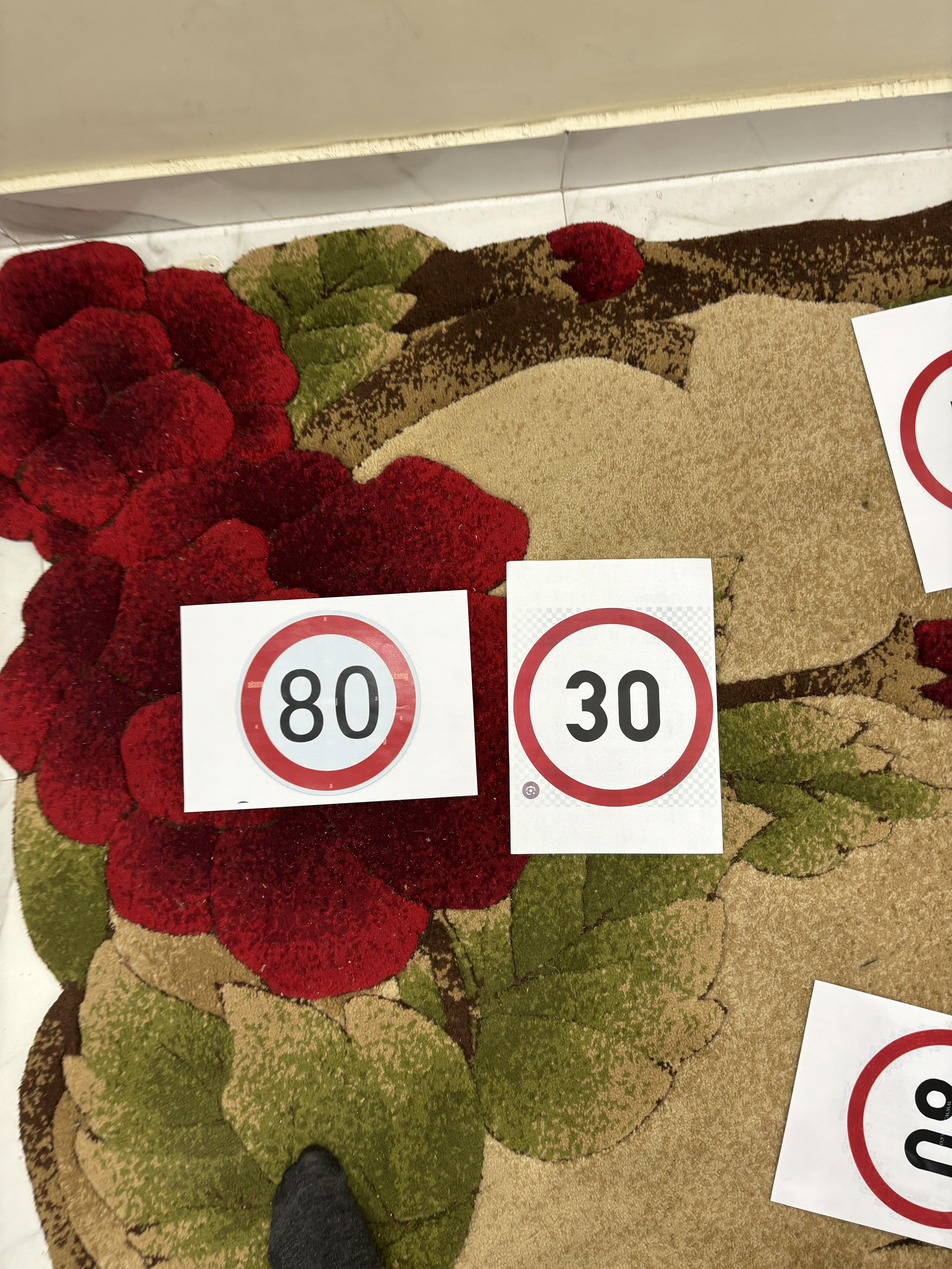30-speed: (511, 600, 720, 808)
80-Speed: (235, 607, 425, 794)
